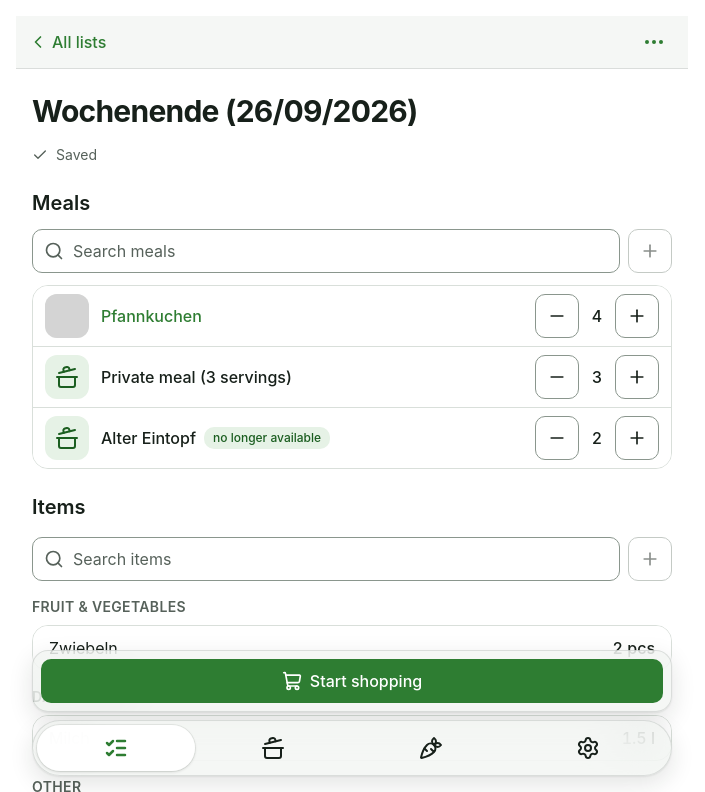
Test: DetailStrip › leads from a shopping list to its parent, above the title
Click the link with test id "back-link" at (67, 42), box [28,32,106,52]
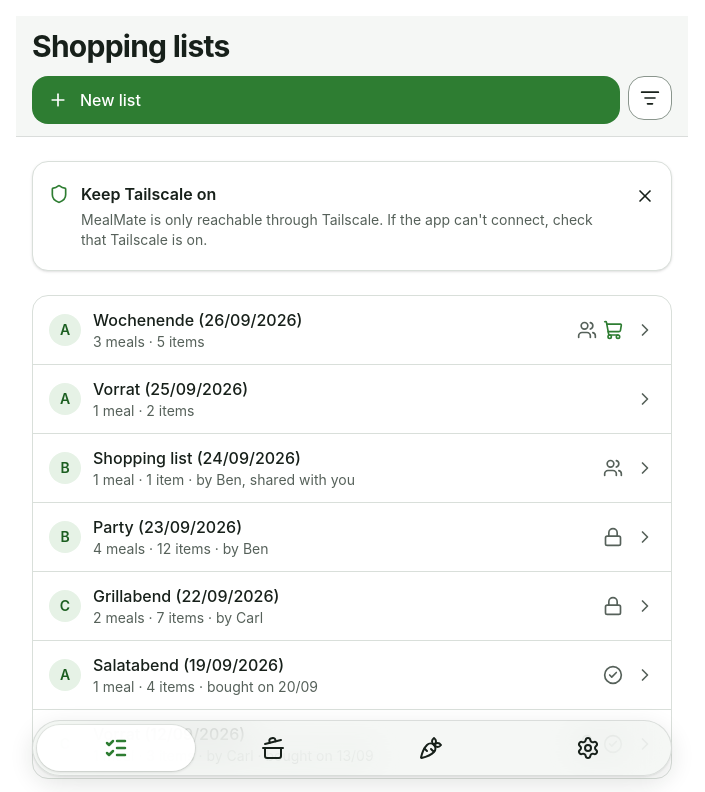
Check: the element with test id "screen-lists" is shown
